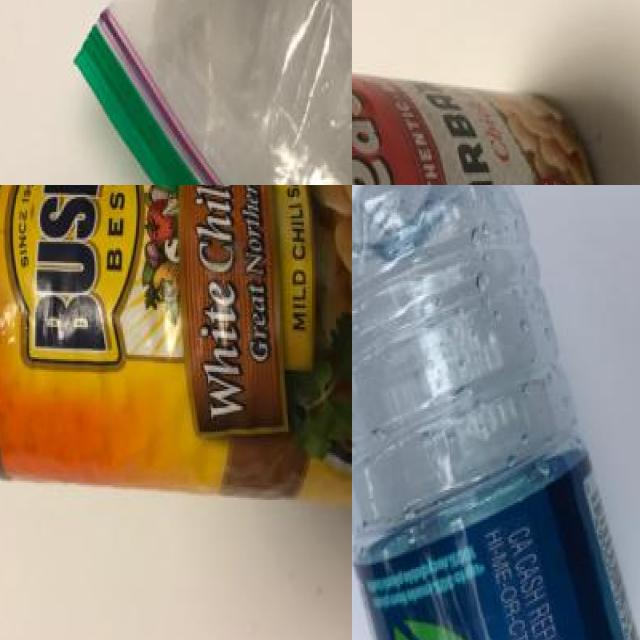plastic: (352, 185, 640, 640), (0, 185, 352, 533), (352, 36, 620, 185)
trash: (29, 0, 352, 185)
